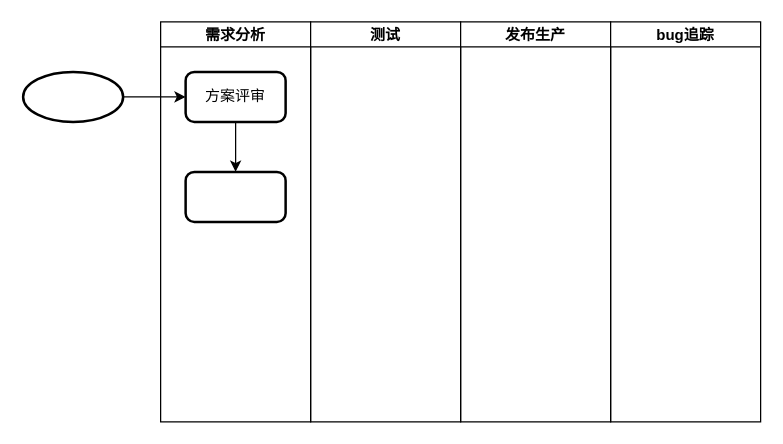
The diagram is 783 pixels wide and 444 high, and some of its shapes have lost their labels. The shapes that lost their labels are listed below. From the top down, each one's centre as x and y in pixels, then its label:
At pixel 72 96: "需求管理".
At pixel 235 196: "创建pdm".
